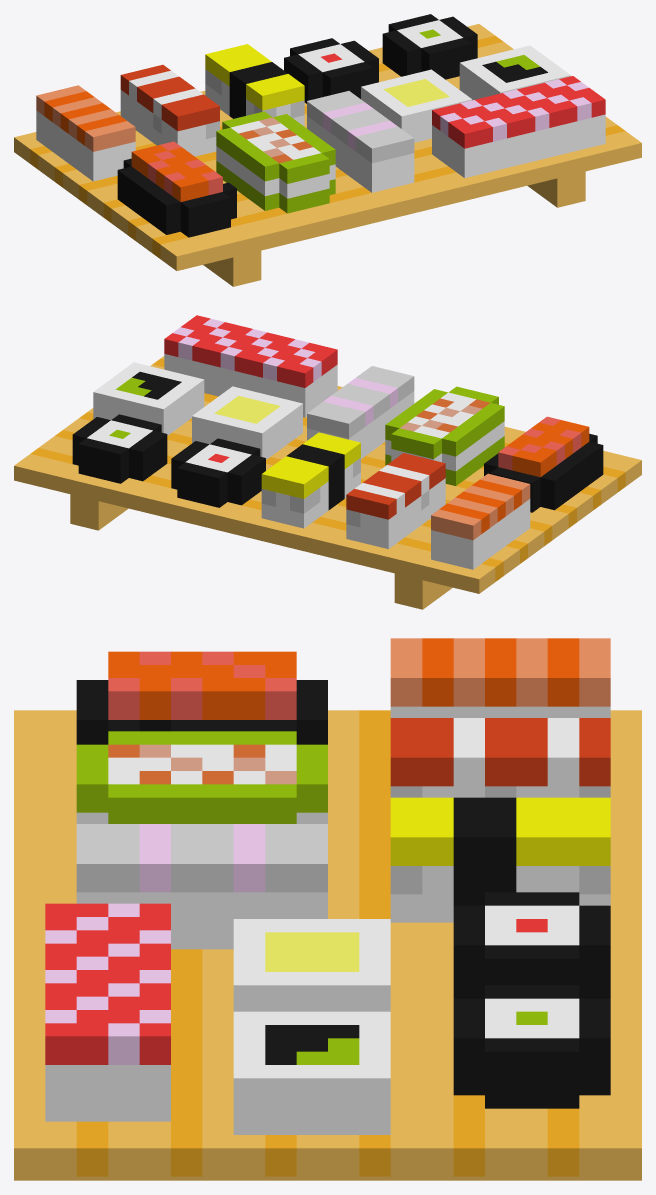
File: lab_sushi.glb
The picture shows the model from 3 angles, top to bottom: view 1: azimuth 30°, elevation 25°; view 2: azimuth 150°, elevation 25°; view 3: azimuth 270°, elevation 25°; orthographic projection. The views are drawn at different scales.
Visible parts, largest first — view 1: sushi_2; view 2: sushi_2; view 3: sushi_2.
Part boxes in pixels (box(x1,y1,x2,y2)): sushi_2: box(14, 14, 641, 286); sushi_2: box(14, 315, 641, 609); sushi_2: box(14, 638, 641, 1180).
Bounding box in the file's own units: 3.3 × 0.6 × 2.
1 material, 1 textured.
